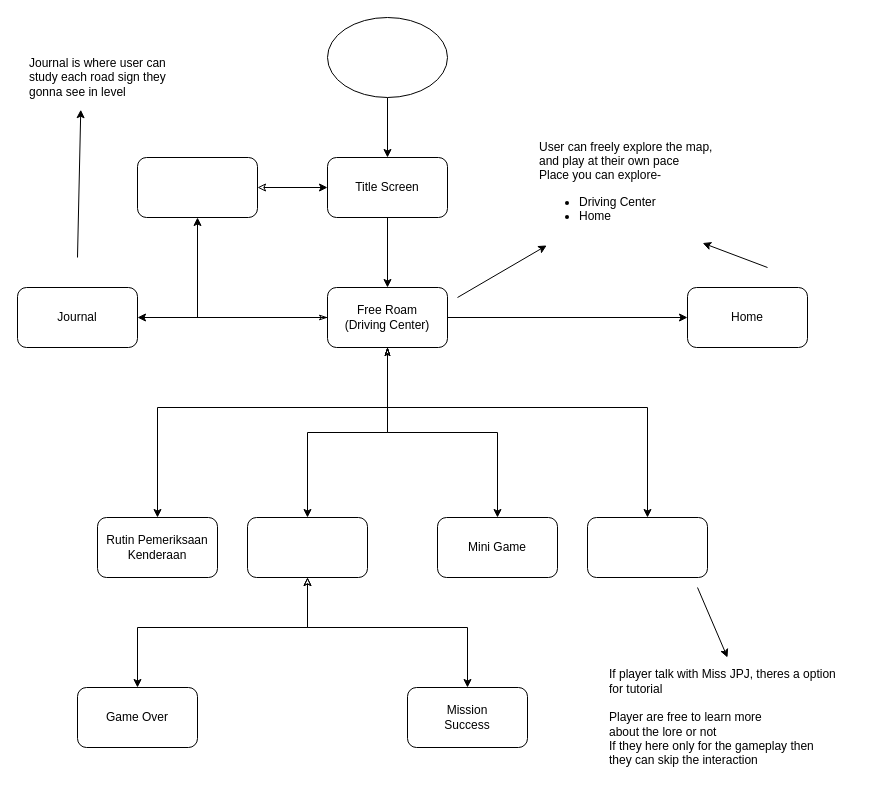
Image size: 875x790. Some labels were removed from this diagram. Here are the shapes that lost their labels. From the top down, the centre of each, then its label:
point 387,57: START
point 197,187: Setting
point 307,547: Level Select
point 647,547: Player Interaction
